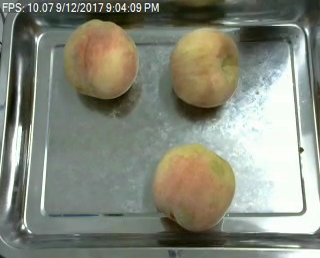Peach: (154, 142, 237, 231), (65, 19, 139, 100), (169, 26, 239, 108)
